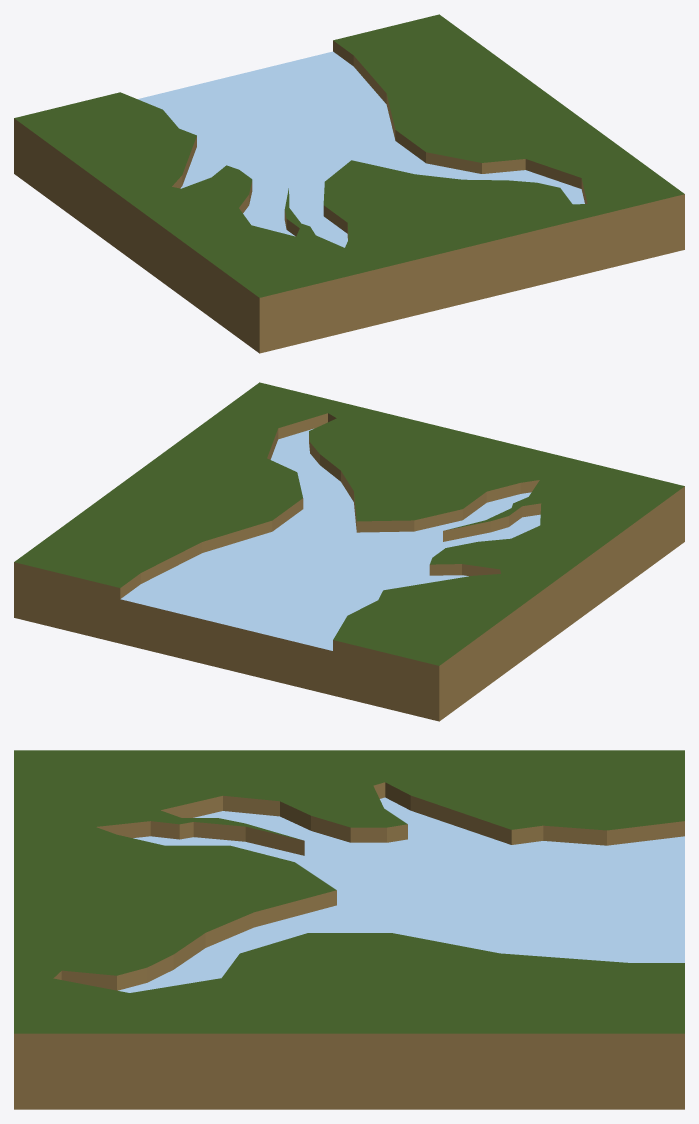
File: Terrain_Tile_Grass_Dirt_River_End_02.fbx
The picture shows the model from 3 angles, top to bottom: view 1: azimuth 30°, elevation 25°; view 2: azimuth 150°, elevation 25°; view 3: azimuth 270°, elevation 25°; orthographic projection. The views are drawn at different scales.
Parts seen in each view (by area): view 1: Terrain_Tile_Grass_Dirt_River_End_02; view 2: Terrain_Tile_Grass_Dirt_River_End_02; view 3: Terrain_Tile_Grass_Dirt_River_End_02.
Part boxes in pixels (x1,y1,x2,y2): Terrain_Tile_Grass_Dirt_River_End_02: (14,14,684,353); Terrain_Tile_Grass_Dirt_River_End_02: (14,382,684,721); Terrain_Tile_Grass_Dirt_River_End_02: (14,750,684,1109).
Bounding box in the file's own units: 126 × 15.75 × 126.
